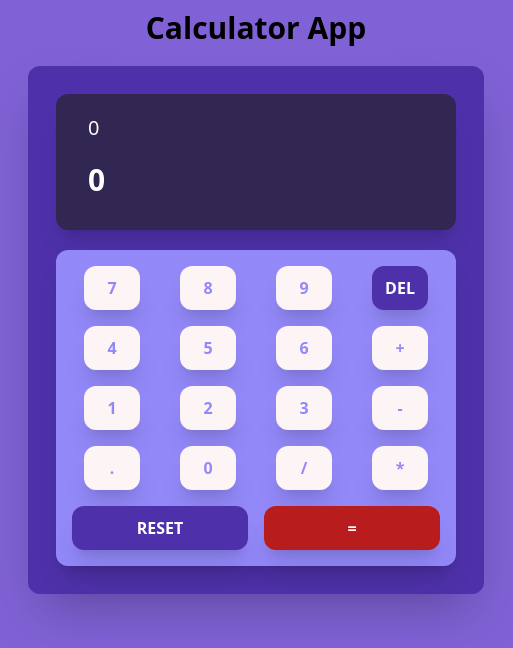
Test case: App › testing answer function
Step 1. Click the button "8" → (208, 288), box [180,266,236,310]
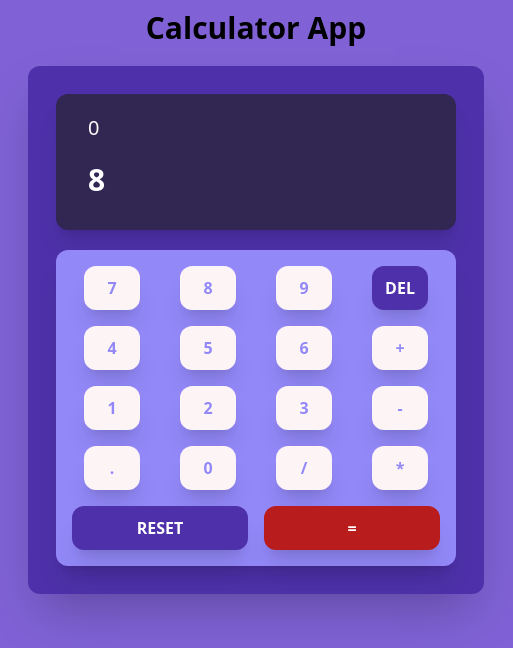
Step 2. Click the button "+" → (400, 348), box [372,326,428,370]
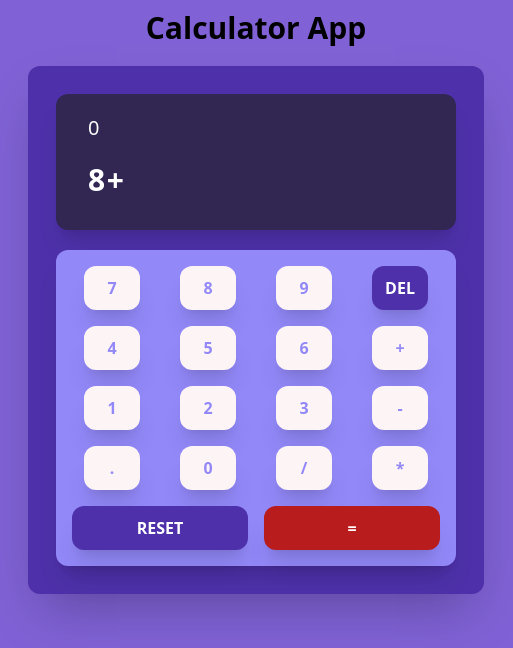
Step 3. Click the button "8" → (208, 288), box [180,266,236,310]
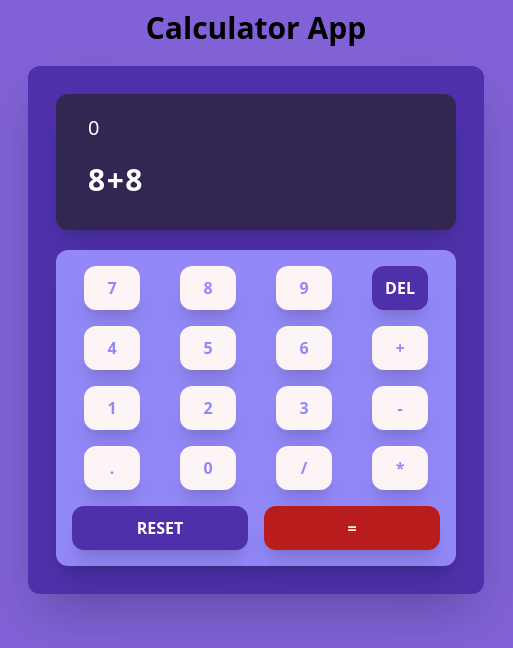
Step 4. Click the button "=" → (352, 528), box [264,506,440,550]
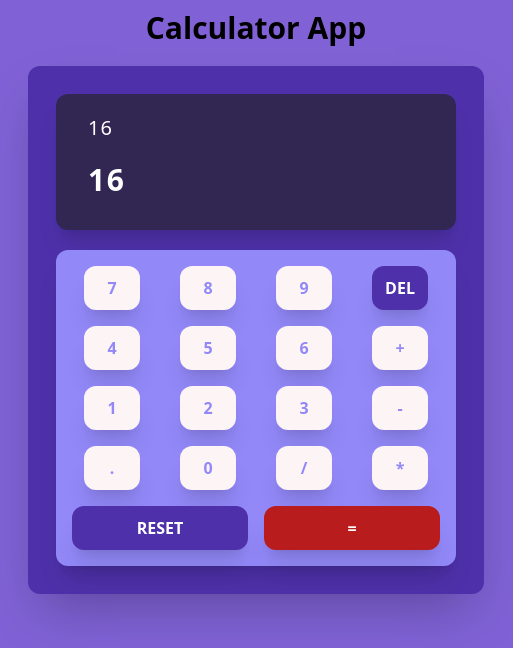
Now the text with test id "display" reads "16", box [88,159,125,200]
